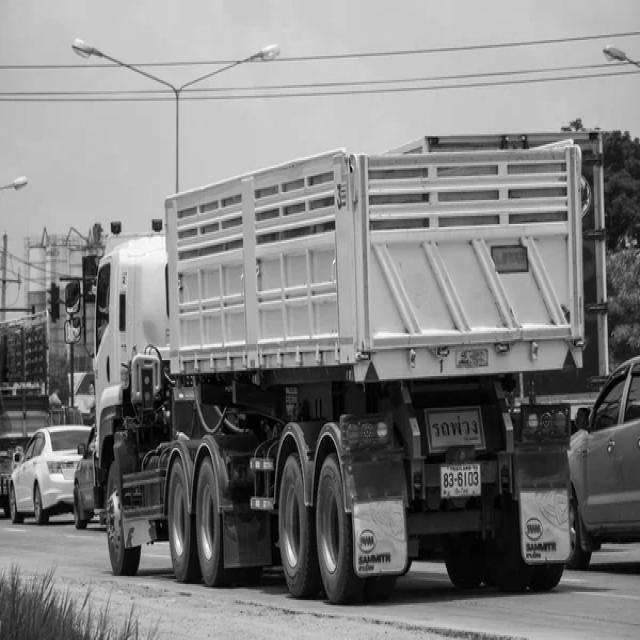Car: (569, 357, 640, 569), (9, 426, 89, 524)
Truck: (94, 135, 589, 602)
